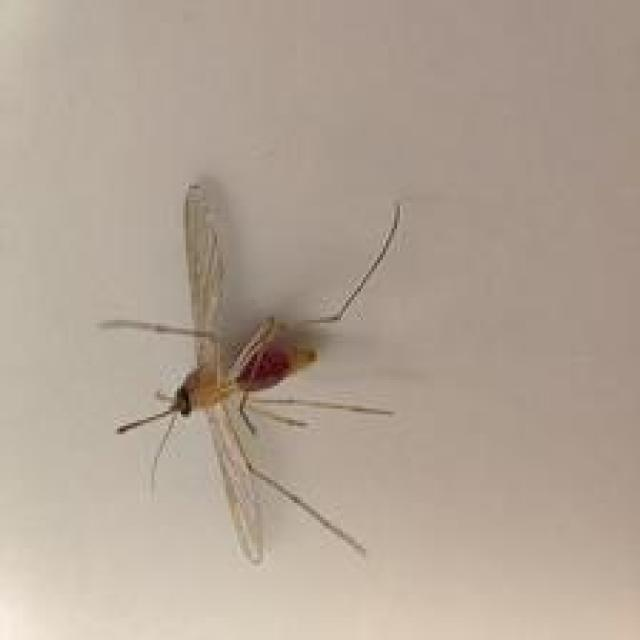Culex: (96, 180, 401, 566)
